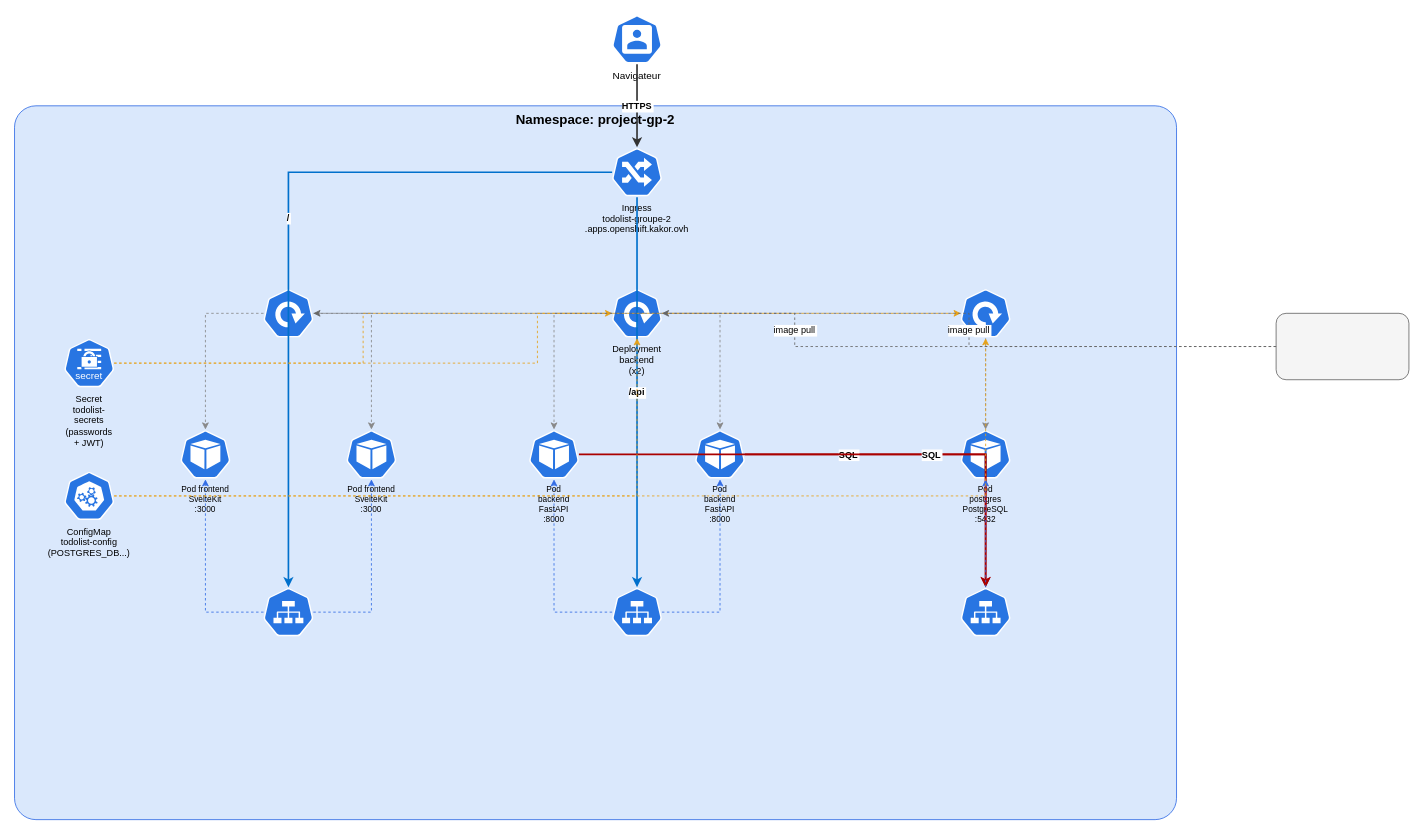
Image size: 1423x834. Some labels were removed from this diagram. Each missing label, with the box of its shape:
Deployment frontend (x2): (263, 288, 313, 338)
Deployment postgres (x1): (960, 288, 1011, 338)
Harbor Registry harbor.kakor.ovh /ipim2il/groupe-2: (1275, 312, 1409, 380)
Service backend-service ClusterIP :8000: (611, 586, 662, 637)
Service frontend-service ClusterIP :3000: (263, 586, 313, 637)
Service postgres-service ClusterIP :5432: (960, 586, 1011, 637)
